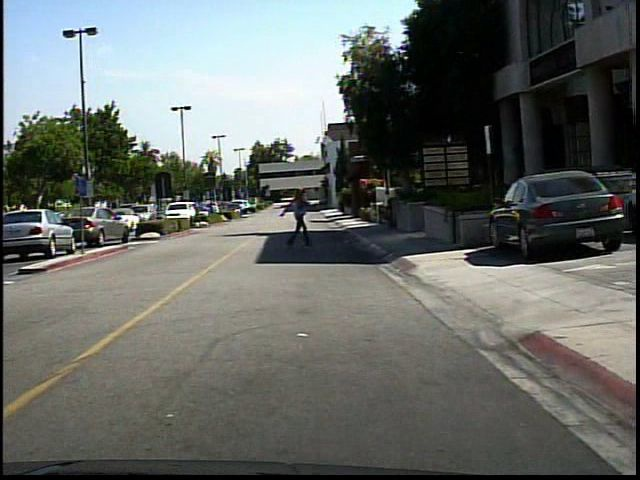person: (277, 185, 310, 252)
